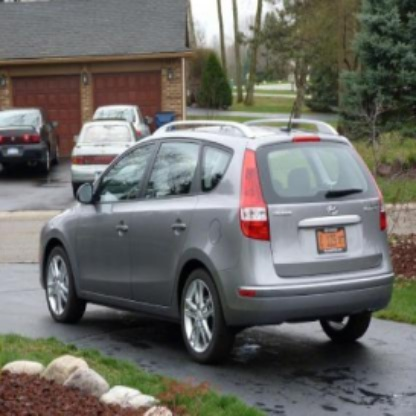Vehicle: (32, 100, 396, 363)
